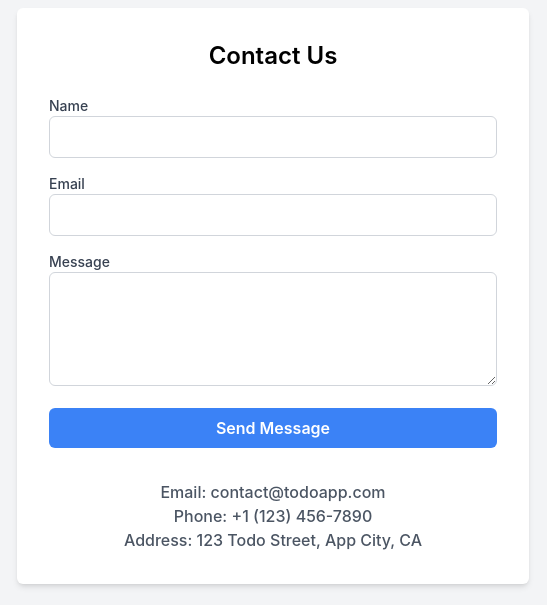
Test case: Contact › shows thank you message after form submission
Type "John Doe" into the field labelled "Name" at (273,137), box [49,116,497,158]
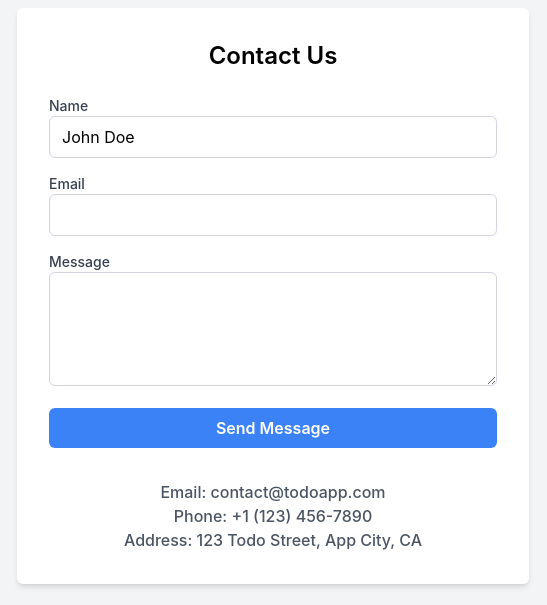
Type "john@example.com" into the field labelled "Email" at (273,215), box [49,194,497,236]
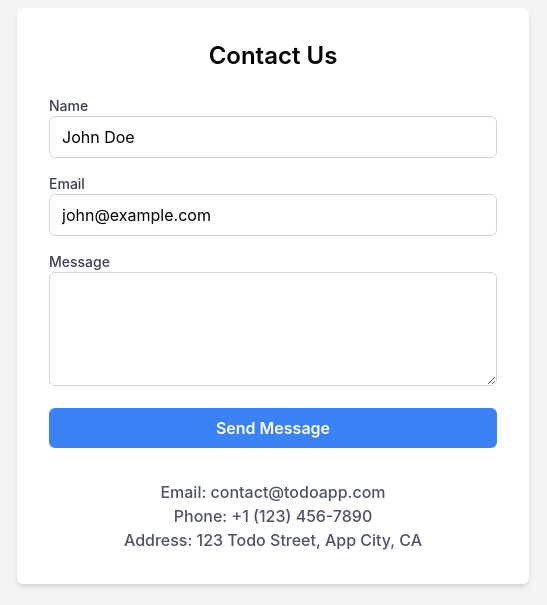
Type "Hello there!" into the text box labelled "Message" at (273,329), box [49,272,497,386]
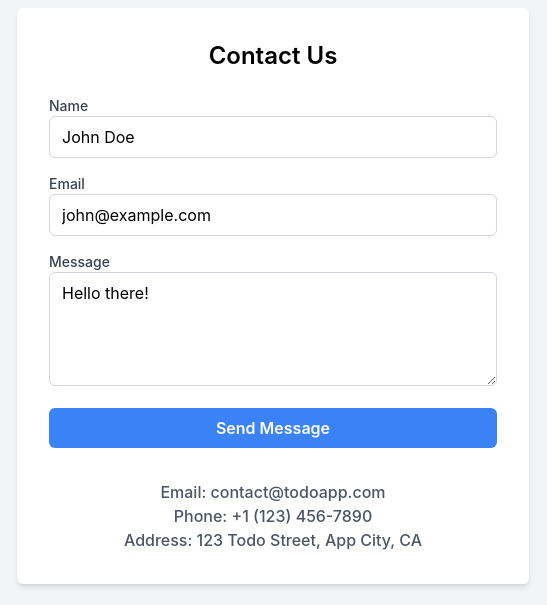
Click the button "Send Message" at (273,428), box [49,408,497,448]
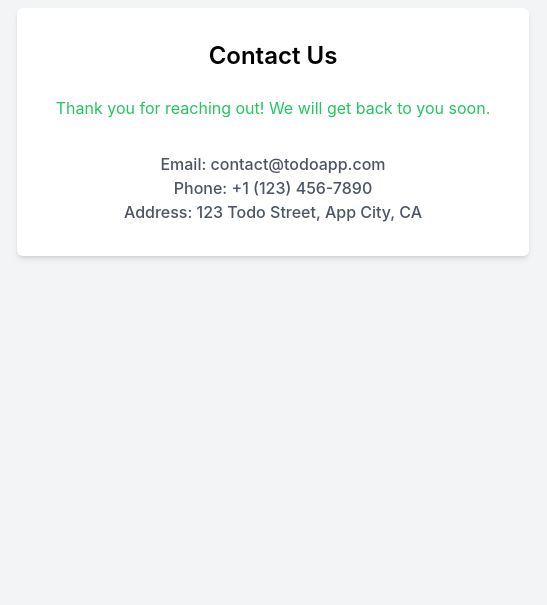
Now the text "Thank you for reaching out! We will get back to you soon." is shown, box [49,96,497,120]
